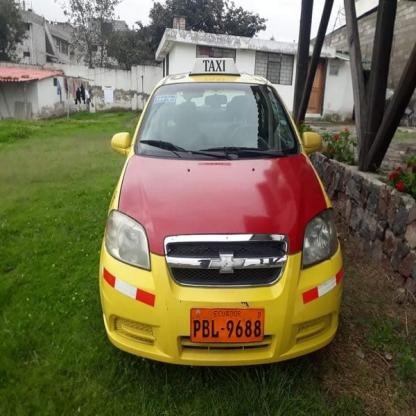Placa: (186, 306, 265, 344)
